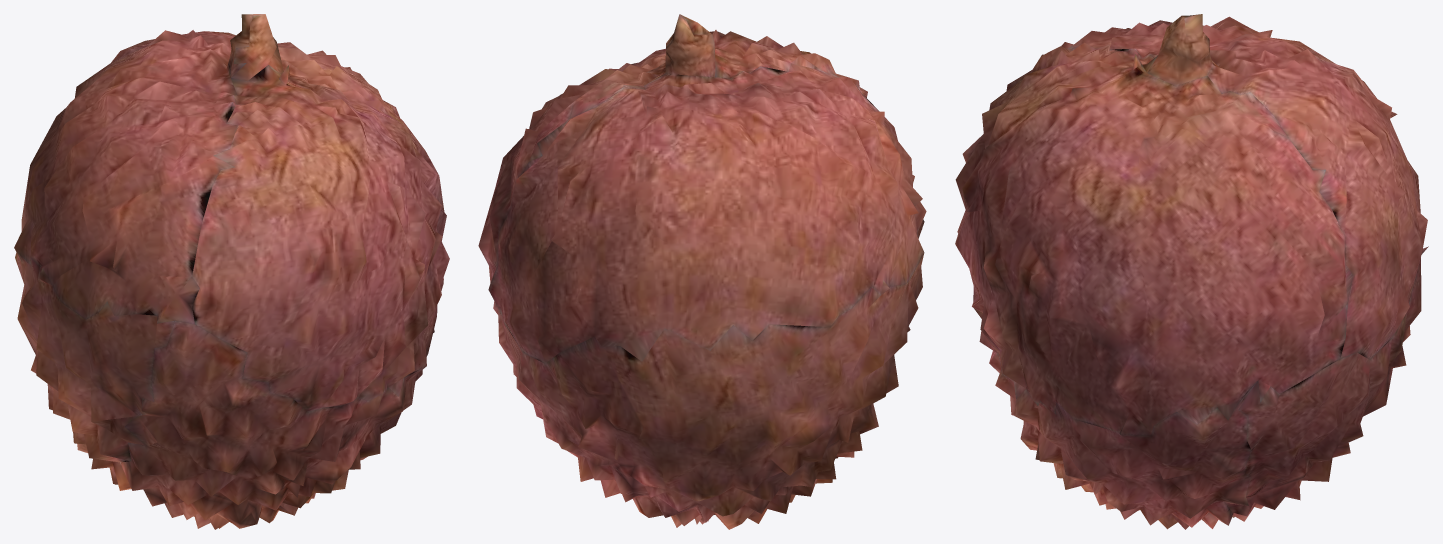
Rendered from food_lychee_01.glb.
The picture shows the model from 3 angles, left to right: view 1: azimuth 30°, elevation 25°; view 2: azimuth 150°, elevation 25°; view 3: azimuth 270°, elevation 25°; orthographic projection. The views are drawn at different scales.
Parts seen in each view (by area): view 1: food_lychee_01; view 2: food_lychee_01; view 3: food_lychee_01.
Part boxes in pixels (box(x1,y1,x2,y2)): food_lychee_01: box(14, 14, 449, 529); food_lychee_01: box(478, 14, 926, 529); food_lychee_01: box(955, 14, 1428, 529).
Bounding box in the file's own units: 0.0409 × 0.0505 × 0.042.
1 material, 1 textured.
